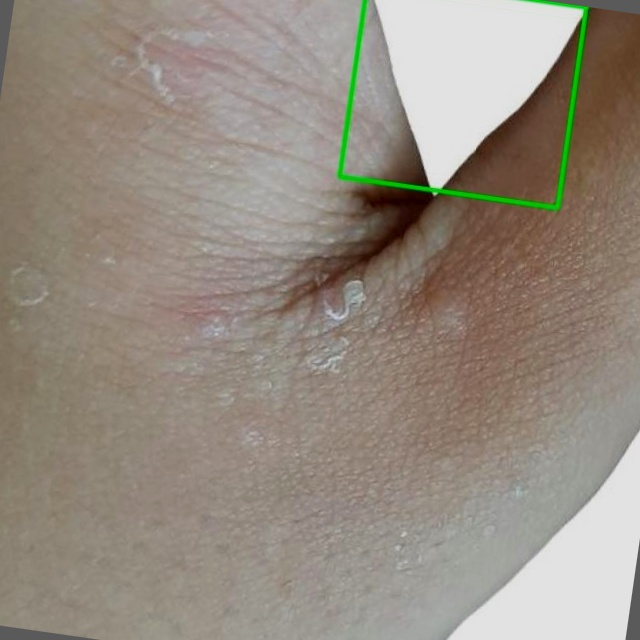Scabies: (339, 0, 586, 207)
